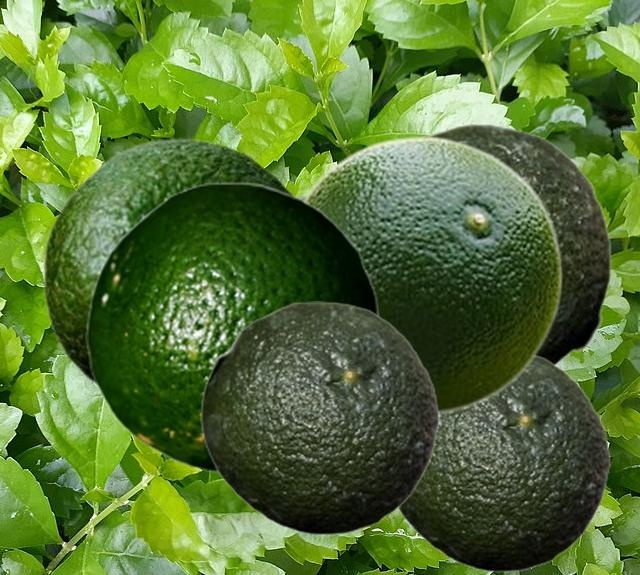calamansi: (85, 181, 382, 472), (303, 135, 563, 414), (42, 137, 299, 389), (200, 301, 439, 534), (417, 123, 611, 365), (396, 353, 610, 571)
